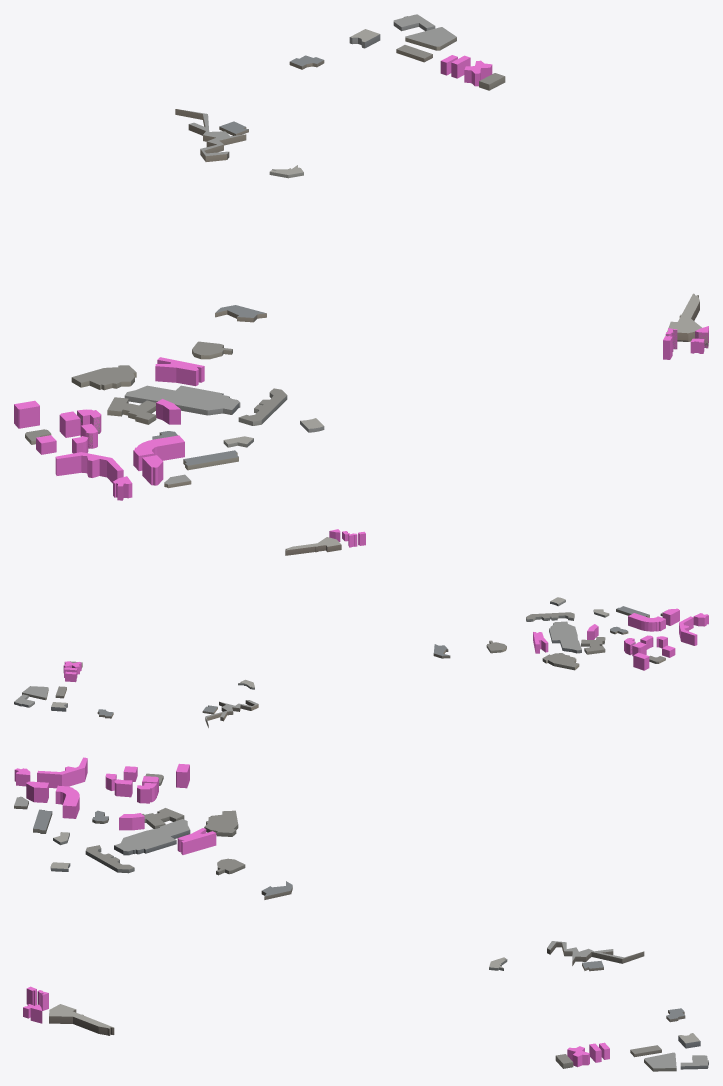
The model's file is bld_15_11.fbx.
The picture shows the model from 3 angles, top to bottom: view 1: azimuth 30°, elevation 25°; view 2: azimuth 150°, elevation 25°; view 3: azimuth 270°, elevation 25°; orthographic projection. The views are drawn at different scales.
Parts seen in each view (by area): view 1: bld_15_11_LOD0, bld_15_11_COL; view 2: bld_15_11_LOD0, bld_15_11_COL; view 3: bld_15_11_LOD0, bld_15_11_COL.
Part boxes in pixels (x1,y1,x2,y2): bld_15_11_LOD0: (25, 14, 708, 488); bld_15_11_COL: (14, 55, 708, 500); bld_15_11_LOD0: (14, 537, 665, 727); bld_15_11_COL: (63, 529, 708, 682); bld_15_11_LOD0: (14, 773, 708, 1071); bld_15_11_COL: (14, 757, 609, 1067).
Size of what is drawn, in the model's own units: 2053 by 50.82 by 2010.
